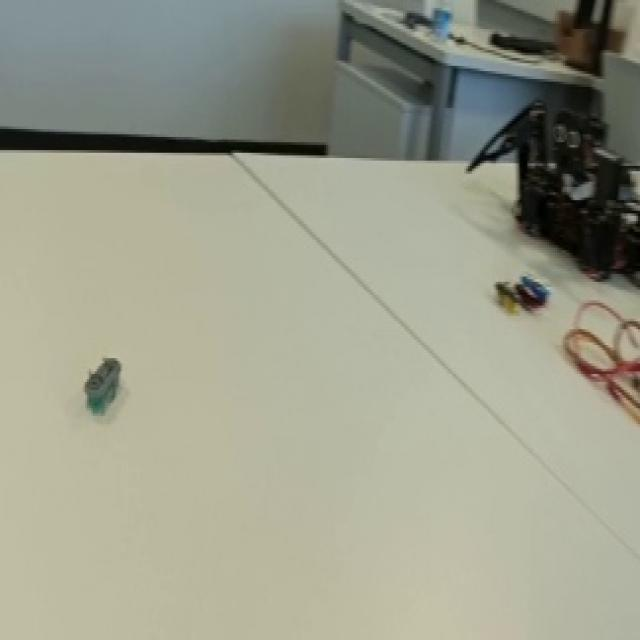5_NanoBug_GrisClaro: (66, 336, 144, 442)
